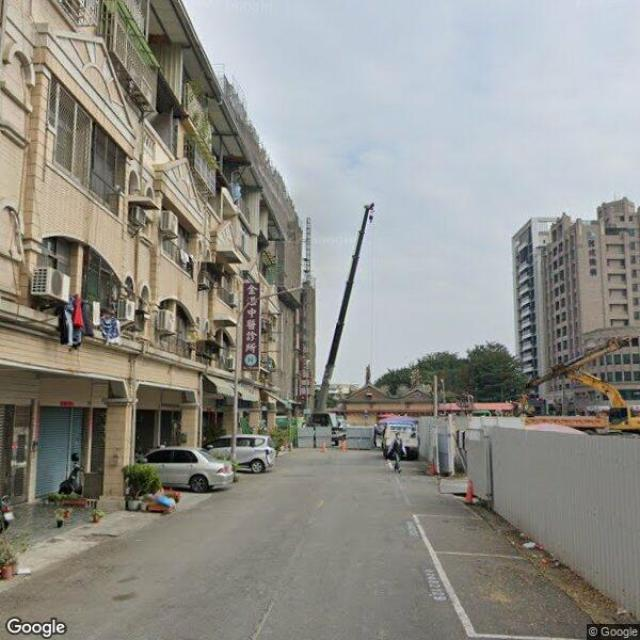Legalparking: (146, 436, 230, 491), (236, 436, 275, 472), (387, 424, 416, 458)
